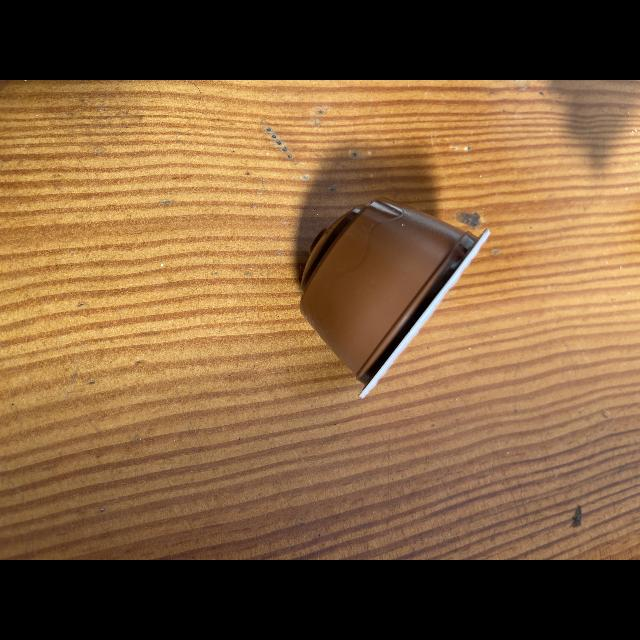intact_capsule: (275, 183, 515, 404)
